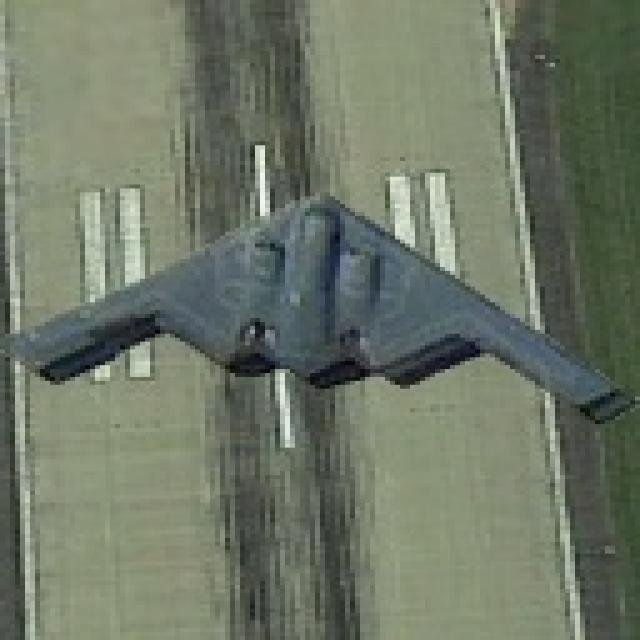B-2_TopDown: (0, 181, 635, 432)
